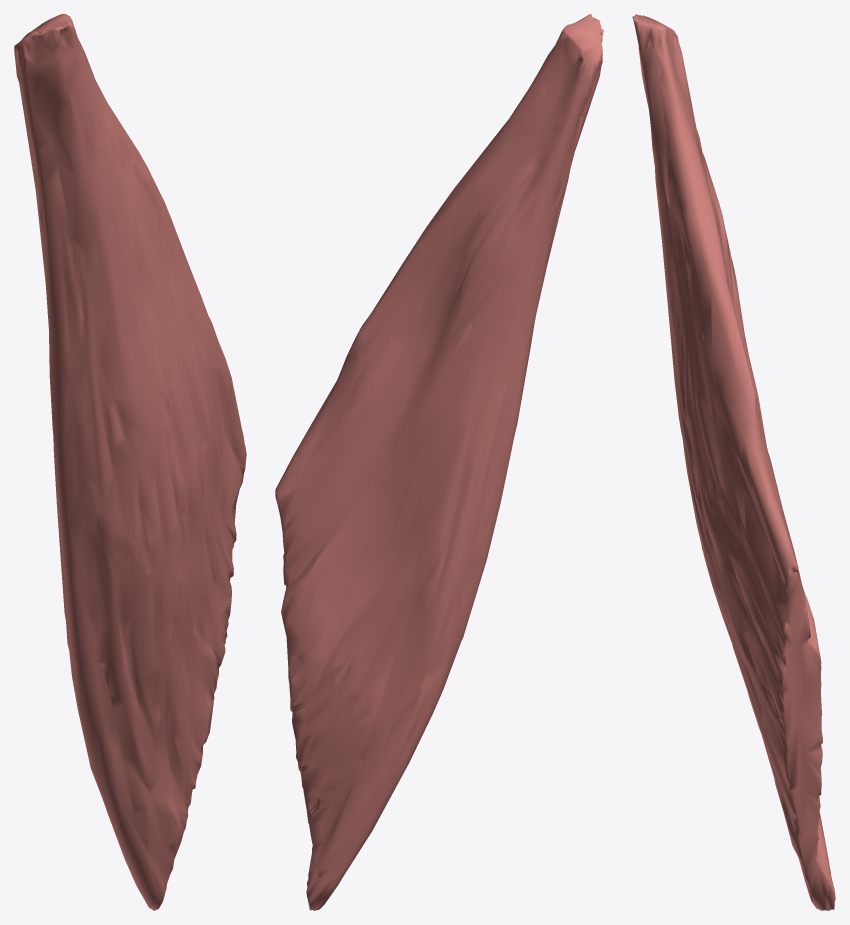
3 renders of one model, left to right at view 1: azimuth 30°, elevation 25°; view 2: azimuth 150°, elevation 25°; view 3: azimuth 270°, elevation 25°, orthographic. The views are drawn at different scales.
Parts seen in each view (by area): view 1: ZA_0f672365ac7a75ad; view 2: ZA_0f672365ac7a75ad; view 3: ZA_0f672365ac7a75ad.
Part boxes in pixels (x1,y1,x2,y2): ZA_0f672365ac7a75ad: [14, 14, 246, 910]; ZA_0f672365ac7a75ad: [275, 14, 603, 910]; ZA_0f672365ac7a75ad: [632, 14, 835, 910].
Size of the model in its own units: 0.0831 by 0.2648 by 0.0598.
